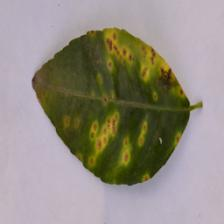canker: (90, 42, 152, 174)
